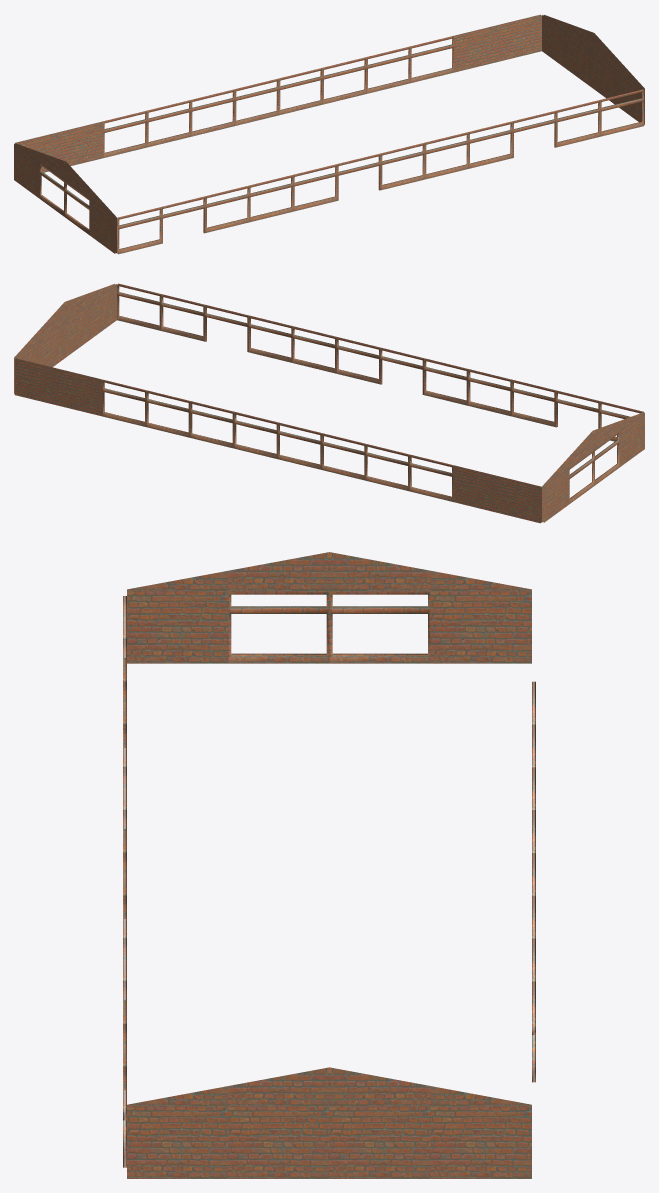
File: wh_wall_brick.obj
The picture shows the model from 3 angles, top to bottom: view 1: azimuth 30°, elevation 25°; view 2: azimuth 150°, elevation 25°; view 3: azimuth 270°, elevation 25°; orthographic projection. The views are drawn at different scales.
Visible parts, largest first — view 1: wall003; view 2: wall003; view 3: wall003.
Boxes of the visible parts, left/top/right/bottom form: wall003: left=14, top=14, right=644, bottom=254; wall003: left=14, top=283, right=644, bottom=523; wall003: left=123, top=552, right=535, bottom=1178.
Bounding box in the file's own units: 92.37 × 9.15 × 31.2.
